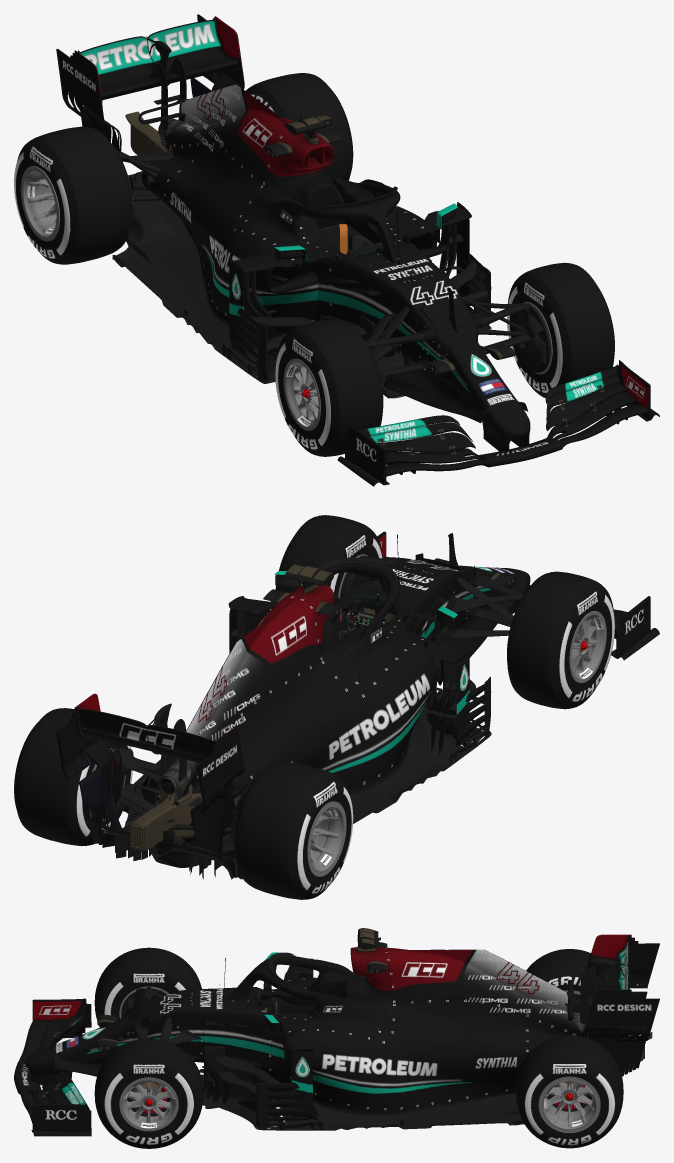
File: mercedes.gltf
The picture shows the model from 3 angles, top to bottom: view 1: azimuth 30°, elevation 25°; view 2: azimuth 150°, elevation 25°; view 3: azimuth 270°, elevation 25°; orthographic projection. The views are drawn at different scales.
Visible parts, largest first — view 1: F2021_BODY_F2021_PAINT_RS_0, CARBON_FLOOR_F2021_CARBON_0, TYRE_RR_F2021_WHEELS_0, TYRE_FR_F2021_WHEELS_0, TYRE_FL_F2021_WHEELS_0, TYRE_RL_F2021_WHEELS_0, F2021_PAINT_DRS_F2021_PAINT_RS_0, GEN_MAT_F2021_GENERAL_MAT_0, RIM_RR_F2021_WHEELS_0, RIM_FR_F2021_WHEELS_0, CARBON_HUB_FL_F2021_CARBON_0, CARBON_SUSP_ARM_FR_A_F2021_CARBON_0; view 2: F2021_BODY_F2021_PAINT_RS_0, CARBON_FLOOR_F2021_CARBON_0, TYRE_RR_F2021_WHEELS_0, TYRE_FR_F2021_WHEELS_0, TYRE_RL_F2021_WHEELS_0, GEN_MAT_F2021_GENERAL_MAT_0, TYRE_FL_F2021_WHEELS_0, F2021_PAINT_DRS_F2021_PAINT_RS_0, RIM_RR_F2021_WHEELS_0, RIM_FR_F2021_WHEELS_0, F2021_BODY_F2021_PAINT_RS_0.001, CARBON_SUSP_ARM_FR_A_F2021_CARBON_0 (+2 smaller); view 3: F2021_BODY_F2021_PAINT_RS_0, CARBON_FLOOR_F2021_CARBON_0, TYRE_FL_F2021_WHEELS_0, TYRE_RL_F2021_WHEELS_0, TYRE_FR_F2021_WHEELS_0, RIM_RL, RIM_FL_F2021_WHEELS_0, TYRE_RR_F2021_WHEELS_0, GEN_MAT_F2021_GENERAL_MAT_0, F2021_PAINT_DRS_F2021_PAINT_RS_0, F2021_BOLTS, CARBON_SUSP_ARM_FL_A_F2021_CARBON_0.
Part boxes in pixels (box(x1,y1,x2,y2)): F2021_BODY_F2021_PAINT_RS_0: box(56, 14, 659, 486); CARBON_FLOOR_F2021_CARBON_0: box(78, 18, 515, 398); TYRE_RR_F2021_WHEELS_0: box(14, 126, 132, 264); TYRE_FR_F2021_WHEELS_0: box(275, 319, 383, 456); TYRE_FL_F2021_WHEELS_0: box(507, 262, 614, 398); TYRE_RL_F2021_WHEELS_0: box(246, 73, 353, 180); F2021_PAINT_DRS_F2021_PAINT_RS_0: box(79, 20, 220, 75); GEN_MAT_F2021_GENERAL_MAT_0: box(125, 111, 604, 455); RIM_RR_F2021_WHEELS_0: box(20, 166, 59, 241); RIM_FR_F2021_WHEELS_0: box(283, 358, 320, 430); CARBON_HUB_FL_F2021_CARBON_0: box(513, 302, 550, 372); CARBON_SUSP_ARM_FR_A_F2021_CARBON_0: box(365, 315, 425, 347); F2021_BODY_F2021_PAINT_RS_0: box(56, 531, 659, 852); CARBON_FLOOR_F2021_CARBON_0: box(77, 557, 515, 879); TYRE_RR_F2021_WHEELS_0: box(234, 762, 353, 899); TYRE_FR_F2021_WHEELS_0: box(507, 571, 614, 709); TYRE_RL_F2021_WHEELS_0: box(14, 708, 132, 846); GEN_MAT_F2021_GENERAL_MAT_0: box(125, 534, 513, 866); TYRE_FL_F2021_WHEELS_0: box(275, 515, 382, 602); F2021_PAINT_DRS_F2021_PAINT_RS_0: box(79, 708, 213, 757); RIM_RR_F2021_WHEELS_0: box(307, 801, 346, 876); RIM_FR_F2021_WHEELS_0: box(569, 611, 606, 682); F2021_BODY_F2021_PAINT_RS_0.001: box(65, 704, 121, 829); CARBON_SUSP_ARM_FR_A_F2021_CARBON_0: box(451, 575, 524, 612); F2021_BODY_F2021_PAINT_RS_0: box(14, 934, 659, 1136); CARBON_FLOOR_F2021_CARBON_0: box(97, 928, 630, 1130); TYRE_FL_F2021_WHEELS_0: box(94, 1038, 203, 1148); TYRE_RL_F2021_WHEELS_0: box(516, 1035, 623, 1148); TYRE_FR_F2021_WHEELS_0: box(94, 947, 201, 1027); RIM_RL: box(538, 1076, 600, 1132); RIM_FL_F2021_WHEELS_0: box(119, 1077, 178, 1131); TYRE_RR_F2021_WHEELS_0: box(526, 949, 616, 1034); GEN_MAT_F2021_GENERAL_MAT_0: box(42, 928, 652, 1103); F2021_PAINT_DRS_F2021_PAINT_RS_0: box(618, 937, 629, 989); F2021_BOLTS: box(132, 947, 566, 1109); CARBON_SUSP_ARM_FL_A_F2021_CARBON_0: box(134, 1028, 196, 1044).
Size of the model in its own units: 2.47 by 1.67 by 5.98.
Materials: 7 (6 with a texture image).
